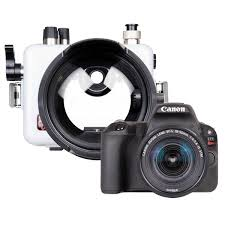camera: (42, 47, 163, 137)
flash: (139, 135, 206, 191)
